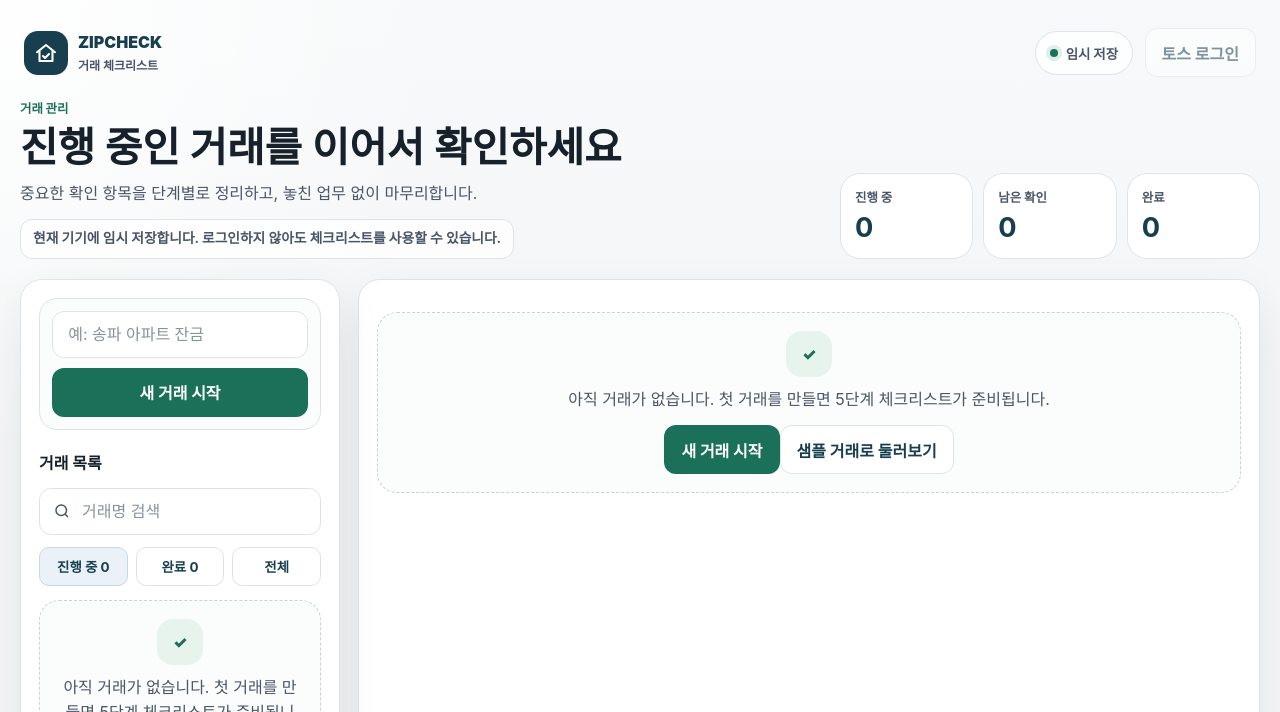
it: App broker checklist › renders reference-first copy and removes footer notes from the detail screen
This screenshot has width=1280, height=712.
Type "참고 UX 검증" into the field named "거래명" at (180, 334), box [52,311,308,358]
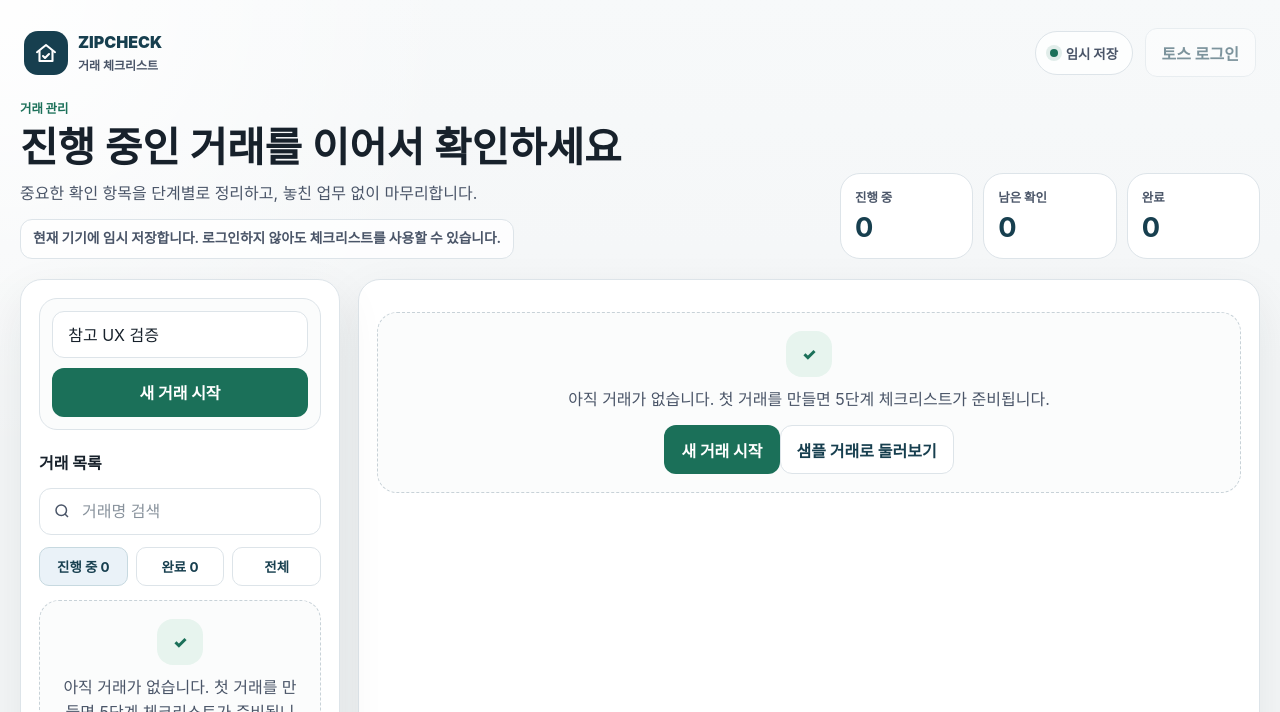
Click the 1st button "새 거래 시작" at (180, 392), box [52,368,308,417]
(page scrolled)
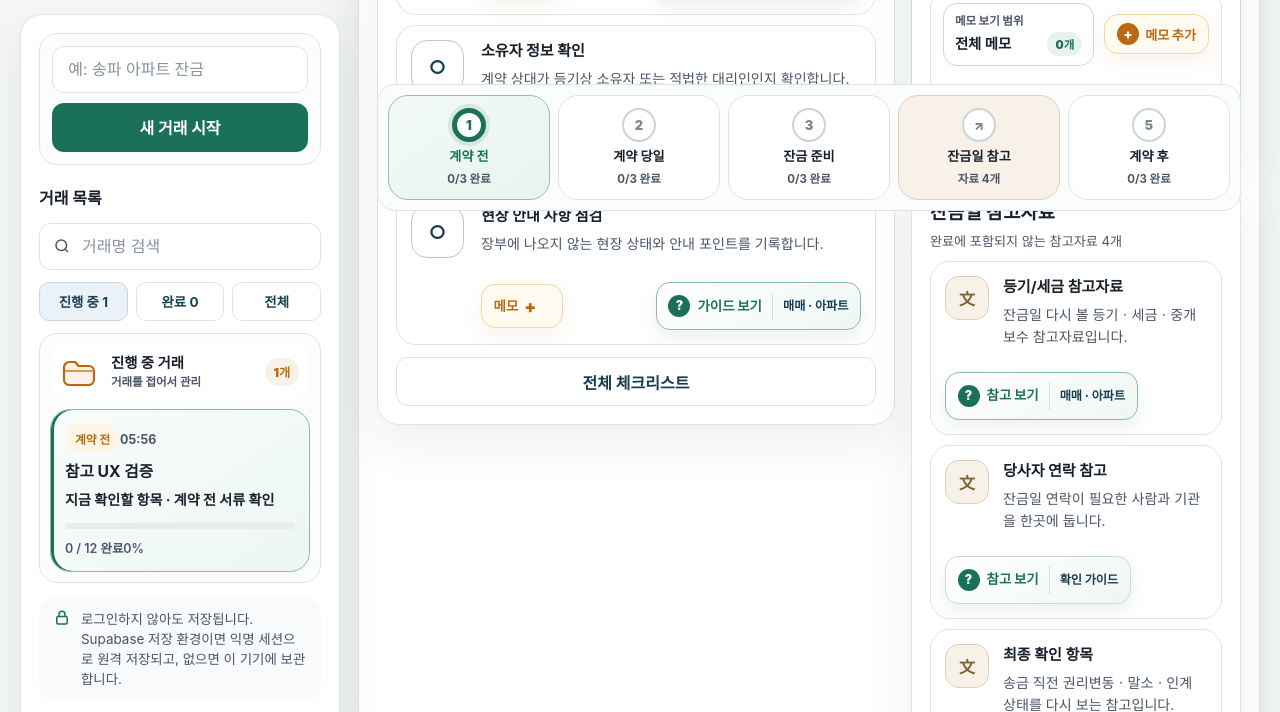
Now the text "완료에 포함되지 않는 참고자료 4개" is shown, box [930,232,1122,251]
Now the button "? 참고 보기 매매 · 아파트" below "잔금일 다시 볼 등기ㆍ세금ㆍ중개보수 참고자료입니다." is shown
Click the button with aria-label "등기/세금 참고자료 참고 보기" at (1041, 396), box [945,372,1138,420]
(page scrolled)
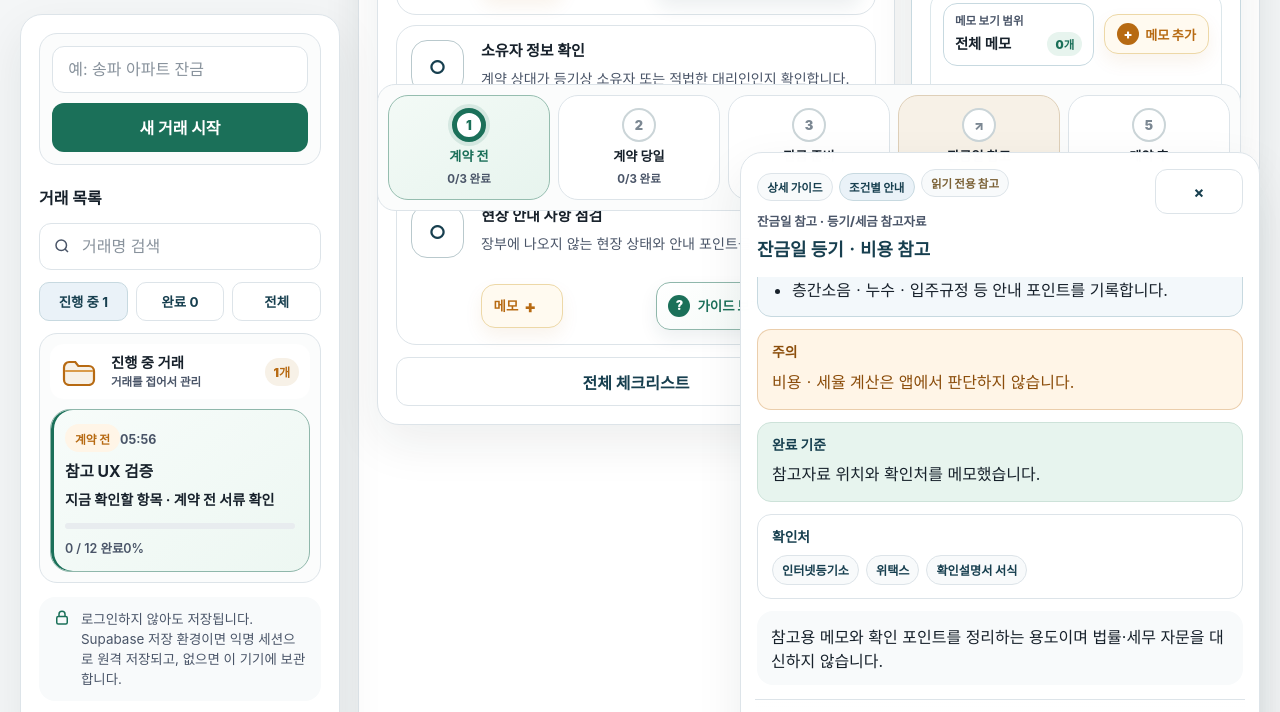
Now the text "참고용 메모와 확인 포인트를 정리하는 용도이며 법률·세무 자문을 대신하지 않습니다." is shown, box [757,611,1243,685]
